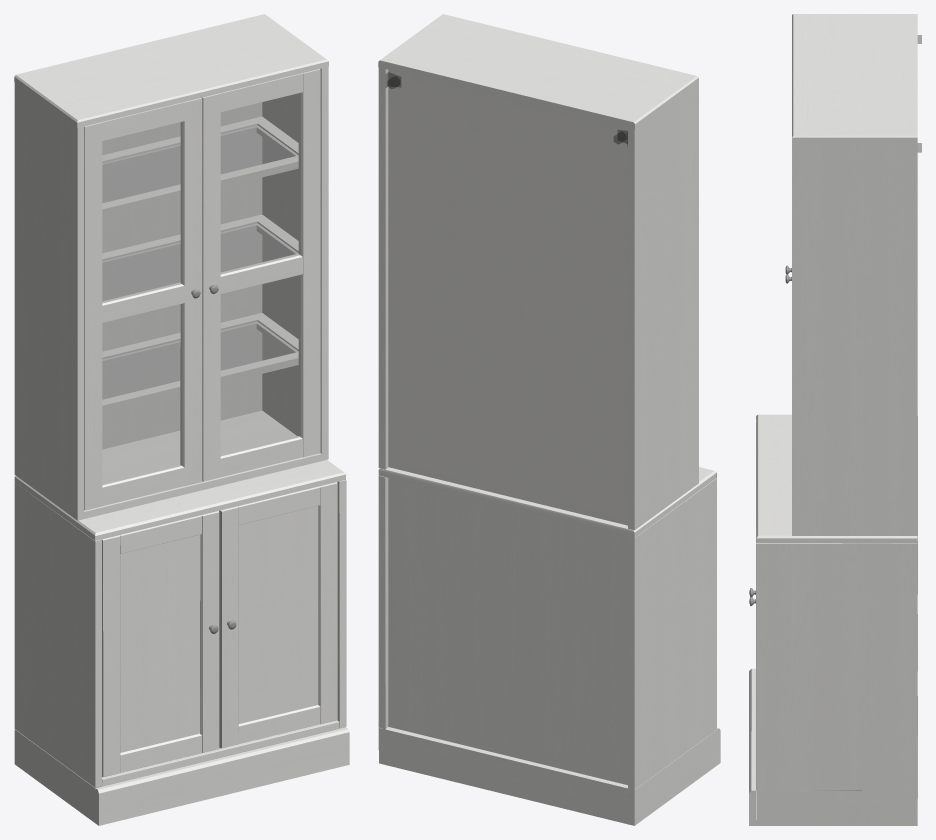
File: 18 - HAVSTA Storage combination w glass-doors - white 81x47x212 cm.glb
The picture shows the model from 3 angles, left to right: view 1: azimuth 30°, elevation 25°; view 2: azimuth 150°, elevation 25°; view 3: azimuth 270°, elevation 25°; orthographic projection. The views are drawn at different scales.
Visible parts, largest first — view 1: Mesh_0, Mesh_2; view 2: Mesh_0; view 3: Mesh_0.
Boxes of the visible parts, box(x1,y1,x2,y2) form: Mesh_0: box(14, 14, 349, 825); Mesh_2: box(102, 93, 299, 484); Mesh_0: box(378, 14, 720, 825); Mesh_0: box(749, 14, 917, 825).
Bounding box in the file's own units: 0.8102 × 2.12 × 0.4815.
2 materials, 2 textured.
